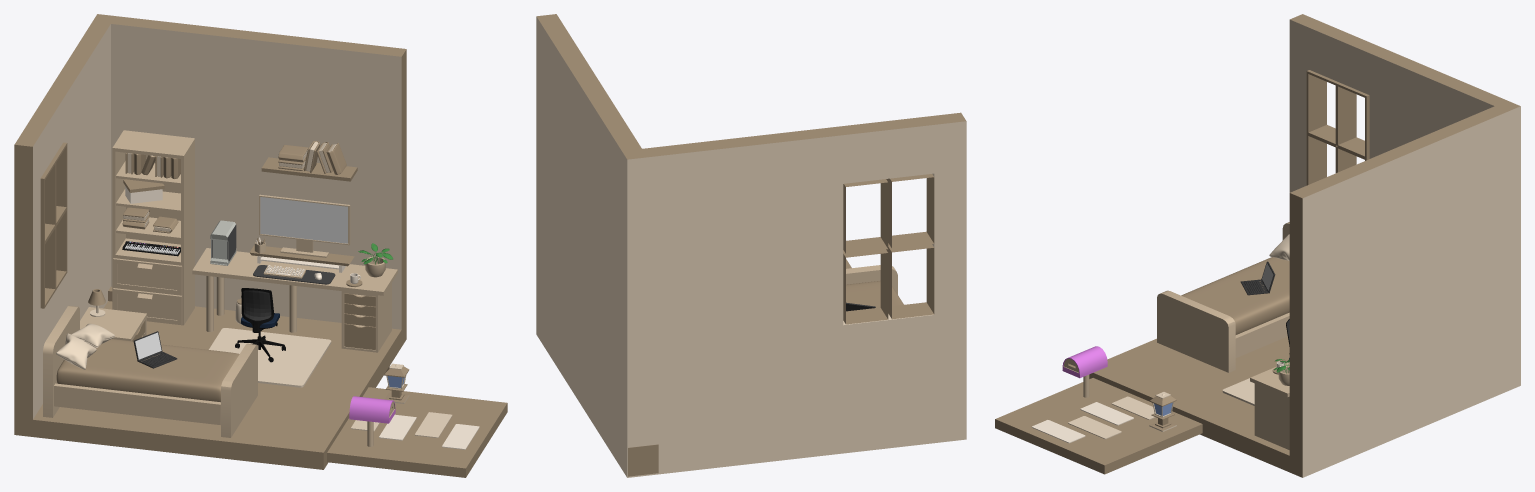
Rendered from room_group.glb.
3 renders of one model, left to right at view 1: azimuth 30°, elevation 25°; view 2: azimuth 150°, elevation 25°; view 3: azimuth 270°, elevation 25°, orthographic. The views are drawn at different scales.
Parts seen in each view (by area): view 1: Room, Bed, Shelf, Outside, Table, Monitor, Floor Items, Shelf Items, Wall Shelf, Peripherals, Drawer, Mini Table (+8 smaller); view 2: Room, Bed, Cube; view 3: Room, Bed, Outside, Table, Mailbox, Lamp, OutsideCarpet1, OutsideCarpet2, OutsideCarpet3, Laptop.
Part boxes in pixels (box(x1,y1,x2,y2)): Room: box(14, 14, 406, 469); Bed: box(43, 305, 257, 437); Shelf: box(112, 130, 194, 325); Outside: box(327, 387, 507, 477); Table: box(192, 248, 397, 352); Monitor: box(259, 194, 350, 257); Floor Items: box(209, 299, 331, 387); Shelf Items: box(122, 153, 180, 256); Wall Shelf: box(261, 141, 357, 181); Peripherals: box(210, 220, 393, 283); Drawer: box(80, 307, 146, 341); Mini Table: box(249, 237, 354, 272); Room: box(536, 14, 966, 477); Bed: box(846, 265, 903, 307); Cube: box(628, 444, 658, 476); Room: box(1089, 14, 1520, 477); Bed: box(1157, 222, 1289, 372); Outside: box(995, 378, 1202, 474); Table: box(1250, 362, 1289, 449); Mailbox: box(1062, 346, 1107, 397); Lamp: box(1149, 392, 1176, 431); OutsideCarpet1: box(1080, 402, 1133, 425); OutsideCarpet2: box(1068, 416, 1121, 439); OutsideCarpet3: box(1032, 420, 1085, 443); Laptop: box(1240, 261, 1275, 295).
Bounding box in the file's own units: 3.17 × 2.24 × 3.82.
Materials: 21 (1 with a texture image).
